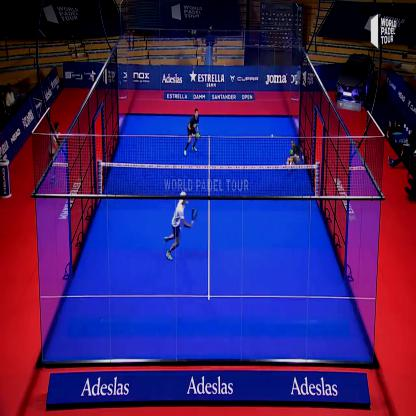ball: (270, 132, 278, 140)
